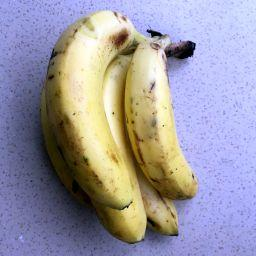banana: (44, 7, 198, 214), (121, 25, 201, 203), (85, 45, 149, 246), (37, 85, 102, 218), (130, 152, 182, 239)
